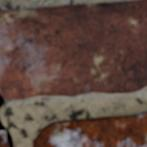brick: (34, 113, 146, 146), (0, 132, 7, 146)
broken_brick: (0, 0, 146, 100)
crack: (2, 0, 144, 13), (0, 113, 16, 146), (0, 86, 5, 111)
